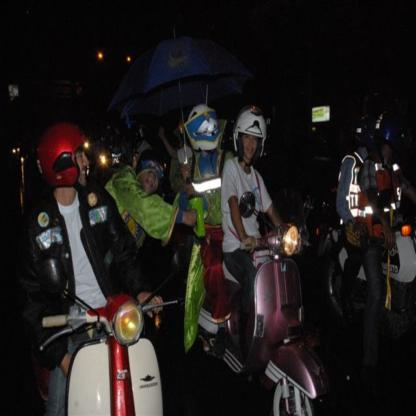Helmet: (41, 128, 90, 196), (184, 104, 228, 154), (233, 100, 266, 165)
